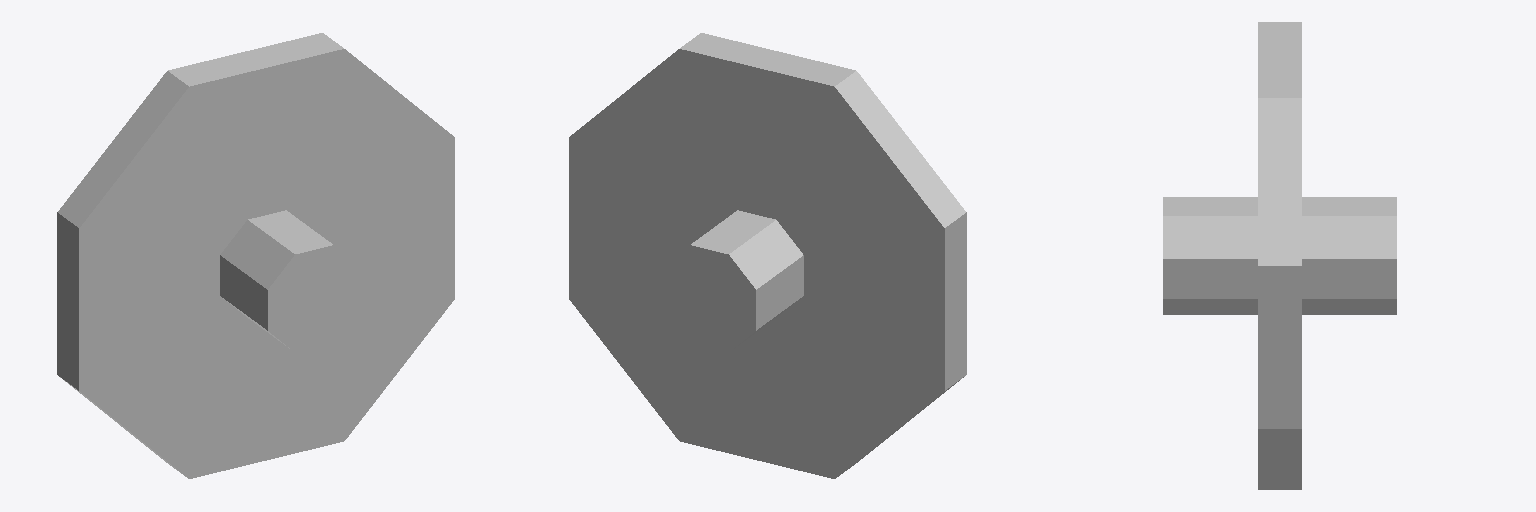
File: exemple_complexe.obj
3 renders of one model, left to right at view 1: azimuth 30°, elevation 25°; view 2: azimuth 150°, elevation 25°; view 3: azimuth 270°, elevation 25°, orthographic.
Parts seen in each view (by area): view 1: Object007, Object003, Object001, Object008, Object006, Object002, Object004, Object005, Object015, Object016, Object019, Object014 (+4 smaller); view 2: Object007, Object003, Object001, Object008, Object006, Object002, Object004, Object005, Object022, Object021, Object023, Object020 (+4 smaller); view 3: Object006, Object004, Object012, Object024, Object018, Object025, Object001, Object005, Object019, Object023, Object013, Object026.
Boxes of the visible parts, x1,y1,x2,y2 form: Object007: [58, 71, 246, 254]; Object003: [57, 212, 219, 390]; Object001: [168, 33, 343, 219]; Object008: [60, 296, 246, 478]; Object006: [287, 49, 453, 230]; Object002: [190, 318, 343, 478]; Object004: [315, 137, 454, 299]; Object005: [305, 282, 453, 440]; Object015: [221, 220, 313, 298]; Object016: [220, 255, 313, 330]; Object019: [248, 210, 333, 298]; Object014: [223, 298, 313, 351]; Object007: [777, 71, 965, 254]; Object003: [804, 212, 966, 390]; Object001: [680, 33, 855, 219]; Object008: [777, 296, 963, 478]; Object006: [570, 49, 736, 230]; Object002: [680, 318, 833, 478]; Object004: [569, 137, 708, 299]; Object005: [570, 282, 718, 440]; Object022: [710, 220, 802, 298]; Object021: [710, 255, 803, 330]; Object023: [690, 210, 775, 298]; Object020: [710, 298, 800, 351]; Object006: [1258, 98, 1301, 265]; Object004: [1258, 266, 1301, 428]; Object012: [1163, 216, 1257, 258]; Object024: [1302, 216, 1396, 258]; Object018: [1163, 259, 1257, 298]; Object025: [1302, 259, 1396, 298]; Object001: [1258, 22, 1301, 97]; Object005: [1258, 429, 1301, 489]; Object019: [1163, 197, 1257, 215]; Object023: [1302, 197, 1396, 215]; Object013: [1163, 299, 1257, 314]; Object026: [1302, 299, 1396, 314].
Size of the model in its own units: 473 by 473 by 256.